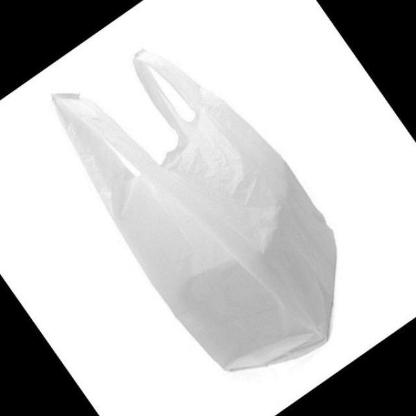Plastic Bag: (53, 50, 337, 370)
